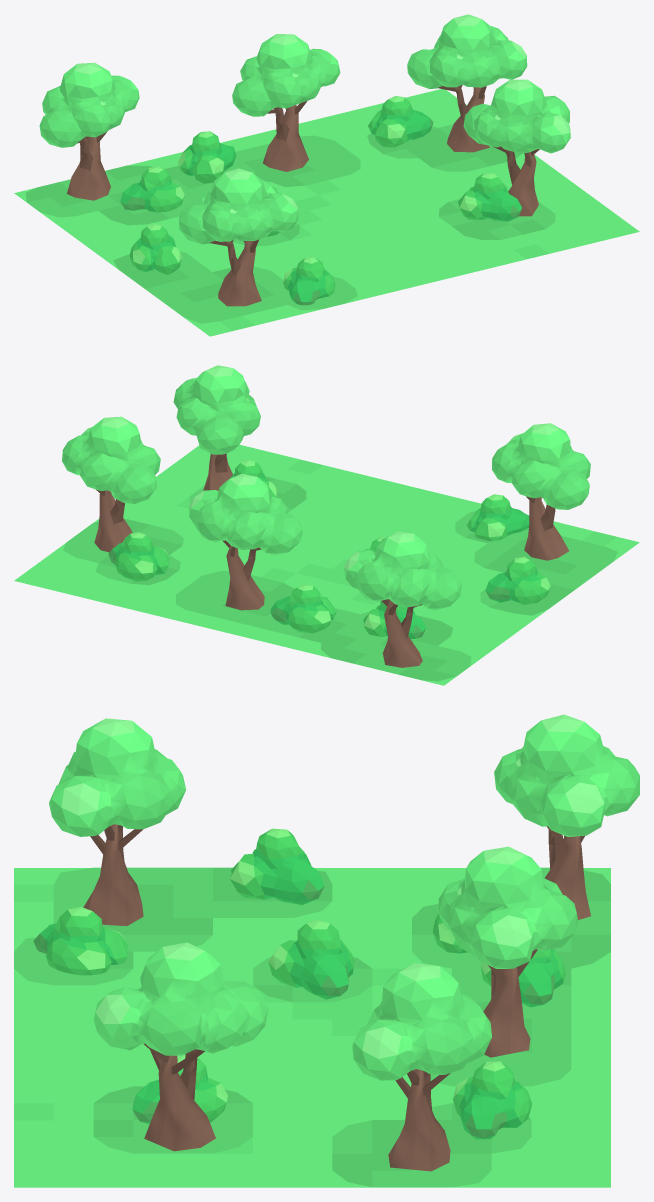
Rendered from grass.gltf.
3 renders of one model, top to bottom at view 1: azimuth 30°, elevation 25°; view 2: azimuth 150°, elevation 25°; view 3: azimuth 270°, elevation 25°, orthographic. The views are drawn at different scales.
Visible parts, largest first — view 1: grass.001, forest.001, grass.002, cysts.001; view 2: forest.001, grass.001, grass.002, cysts.001; view 3: grass.001, forest.001, grass.002, cysts.001.
Part boxes in pixels (bbox=[...]): grass.001: bbox=[14, 89, 639, 336]; forest.001: bbox=[39, 14, 570, 306]; grass.002: bbox=[25, 124, 555, 323]; cysts.001: bbox=[120, 96, 521, 305]; forest.001: bbox=[62, 365, 590, 667]; grass.001: bbox=[14, 444, 639, 685]; grass.002: bbox=[63, 473, 617, 681]; cysts.001: bbox=[108, 459, 550, 639]; grass.001: bbox=[14, 868, 610, 1187]; forest.001: bbox=[49, 714, 639, 1171]; grass.002: bbox=[14, 867, 610, 1187]; cysts.001: bbox=[33, 828, 565, 1139].
Size of the model in its own units: 18.11 by 5.36 by 14.74.
